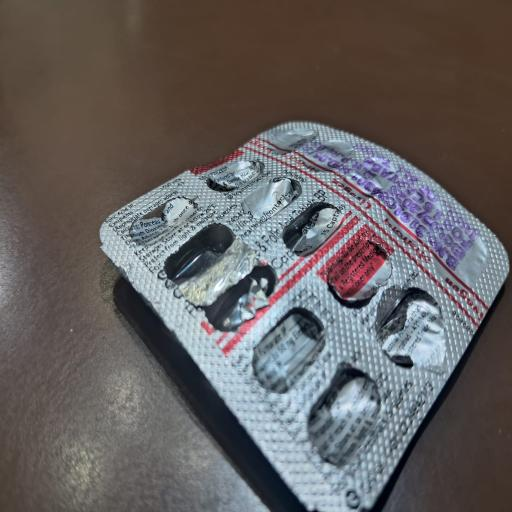livogen-tablet: (442, 265, 490, 323), (329, 170, 374, 217)
medicine: (92, 119, 504, 510)
